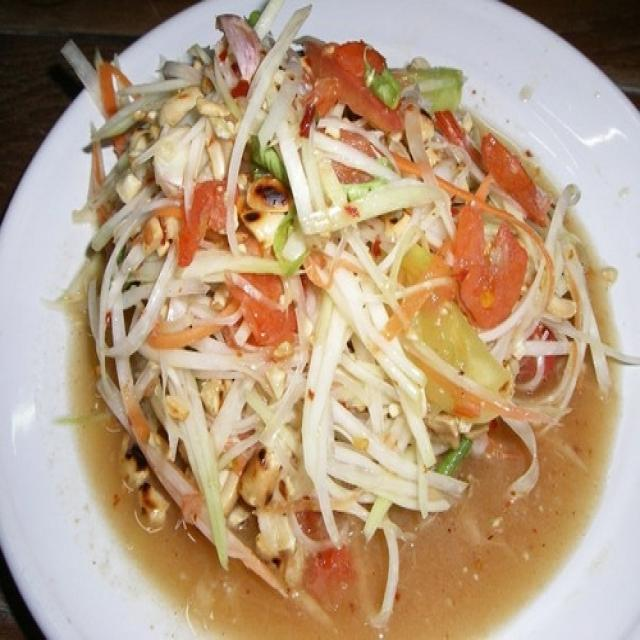蔬菜料理: (29, 10, 610, 621)
